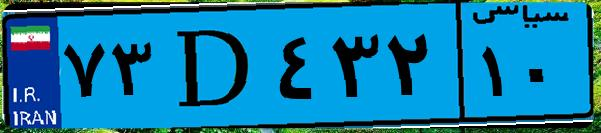0: (525, 38, 570, 115)
1: (475, 38, 525, 113)
2: (385, 28, 445, 110)
3: (330, 28, 385, 110), (110, 28, 158, 98)
4: (270, 28, 330, 110)
7: (57, 26, 110, 100)
D: (158, 12, 270, 120)
